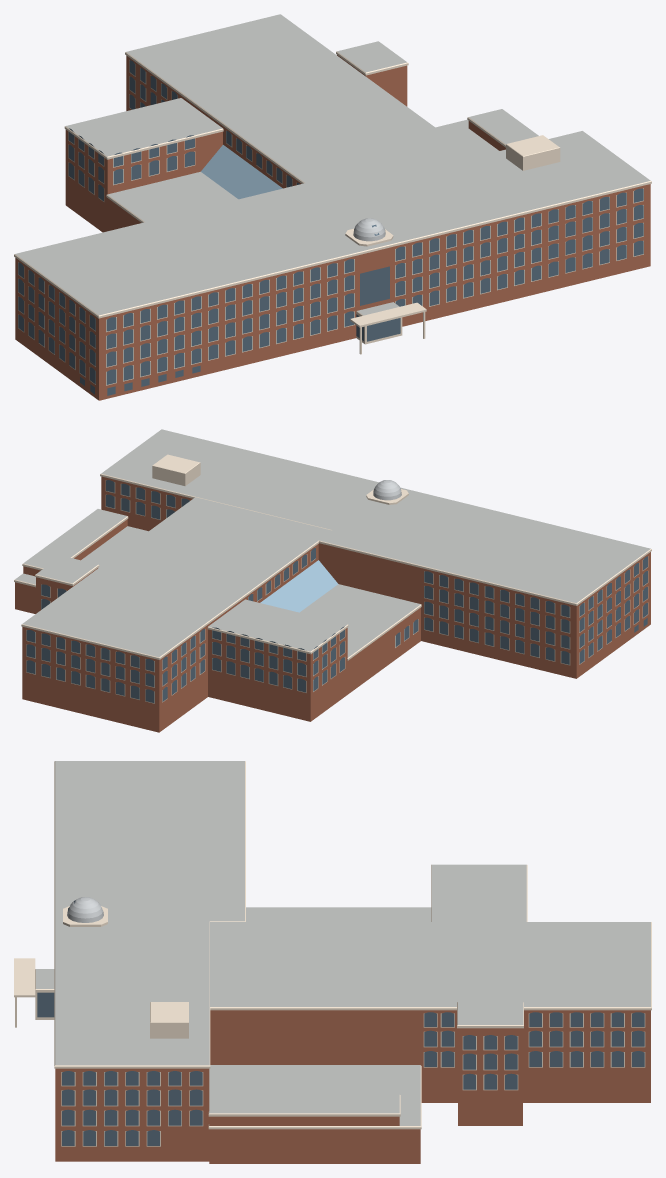
The model's file is cola-sc-state-museum.glb.
3 views of the same model, one above another, from view 1: azimuth 30°, elevation 25°; view 2: azimuth 150°, elevation 25°; view 3: azimuth 270°, elevation 25° (orthographic). The views are drawn at different scales.
Visible parts, largest first — view 1: South Carolina State Museum; view 2: South Carolina State Museum; view 3: South Carolina State Museum.
Part boxes in pixels (x1,y1,x2,y2): South Carolina State Museum: (14,14,651,400); South Carolina State Museum: (14,429,651,732); South Carolina State Museum: (14,761,651,1163).
Bounding box in the file's own units: 149 × 26.2 × 131.
